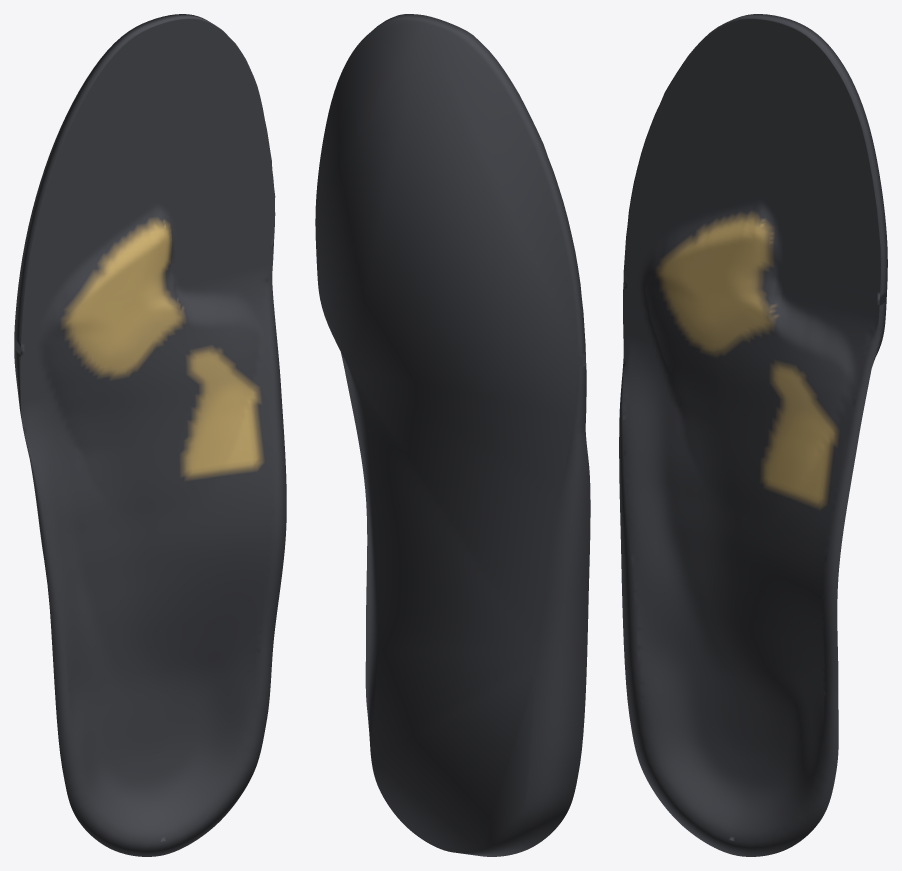
The model's file is SG-DANCERSPAD_LEFT.glb.
3 views of the same model, side by side, from view 1: azimuth 30°, elevation 25°; view 2: azimuth 150°, elevation 25°; view 3: azimuth 330°, elevation 25° (orthographic). The views are drawn at different scales.
Parts seen in each view (by area): view 1: dancerspad.stl; view 2: dancerspad.stl; view 3: dancerspad.stl.
Part boxes in pixels (x1,y1,x2,y2): dancerspad.stl: (14, 14, 286, 856); dancerspad.stl: (315, 14, 590, 856); dancerspad.stl: (619, 14, 887, 856).
Size of the model in its own units: 99.56 by 304 by 22.83.
